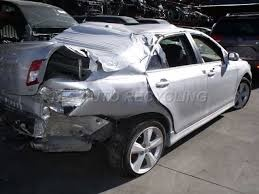Broken-glass: (44, 85, 91, 110)
Smashed: (15, 32, 153, 152)
